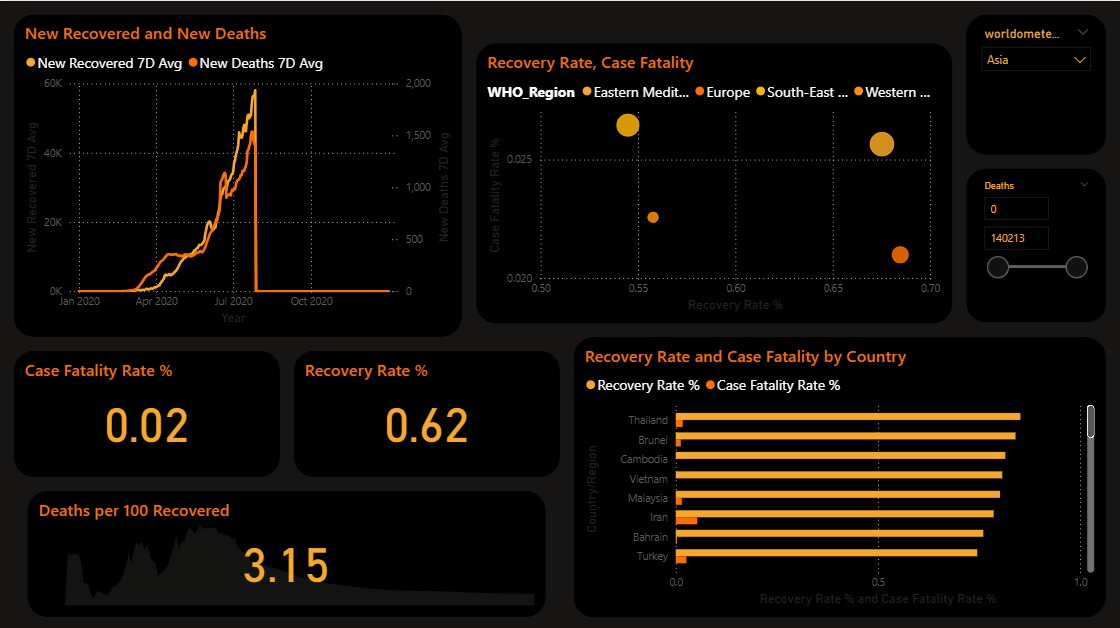

The dashboard page shown, as its layout file describes it:
{"tool":"powerbi","page":{"name":"RECOVERY vs SEVERITY ","canvas":[1280,720],"ordinal":2},"visuals":[{"type":"slicer","fields":{"Values":["Calendar.Date"]},"box":[768,176,304,96],"z":1000},{"type":"slicer","fields":{"Values":["country_facts.worldometer_data.Continent"]},"box":[1104,16,160,160],"z":3000},{"type":"kpi","title":"Deaths per 100 Recovered","fields":{"Indicator":["DAX.Deaths per 100 Recovered"],"TrendLine":["Calendar.Date"]},"box":[32,560,592,144],"z":4000},{"type":"kpi","title":"Recovery Rate %","fields":{"Indicator":["DAX.Recovery Rate %"],"TrendLine":["day_wise.Active"]},"box":[336,400,304,144],"z":5000},{"type":"kpi","title":"Case Fatality Rate %","fields":{"Indicator":["DAX.Case Fatality Rate %"],"TrendLine":["usa_countRy_wise.Deaths"]},"box":[16,400,304,144],"z":6000},{"type":"clusteredBarChart","title":"Recovery Rate  and Case Fatality by Country","fields":{"Category":["country_facts.Country/Region"],"Y":["DAX.Recovery Rate %","DAX.Case Fatality Rate %"]},"box":[656,384,608,320],"z":7000},{"type":"lineChart","title":"New Recovered and New Deaths","fields":{"Y":["DAX.New Recovered 7D Avg"],"Y2":["DAX.New Deaths 7D Avg"],"Category":["Calendar.Date.Variation.Date Hierarchy.Year","Calendar.Date.Variation.Date Hierarchy.Quarter","Calendar.Date.Variation.Date Hierarchy.Month","Calendar.Date.Variation.Date Hierarchy.Day"]},"box":[16,16,512,368],"z":8000},{"type":"scatterChart","title":"Recovery Rate, Case Fatality","fields":{"X":["DAX.Recovery Rate %"],"Size":["DAX.Total Confirmed"],"Series":["covid_19_clean_complete.WHO_Region"],"Y":["DAX.Case Fatality Rate %"]},"box":[544,48,544,320],"z":9000},{"type":"slicer","fields":{"Values":["covid_19_clean_complete.Deaths"]},"box":[1104,192,160,176],"z":10000}]}

Visuals, with their boxes in screenshot pixels (x1, y1, x2, y2), scaled from the page's 1280x720 canvas onto the 1120x628 screenshot:
slicer - Calendar.Date: 672 154 938 237
slicer - country_facts.worldometer_data.Continent: 966 14 1106 154
"Deaths per 100 Recovered" kpi: 28 488 546 614
"Recovery Rate %" kpi: 294 349 560 474
"Case Fatality Rate %" kpi: 14 349 280 474
"Recovery Rate  and Case Fatality by Country" clusteredBarChart: 574 335 1106 614
"New Recovered and New Deaths" lineChart: 14 14 462 335
"Recovery Rate, Case Fatality" scatterChart: 476 42 952 321
slicer - covid_19_clean_complete.Deaths: 966 167 1106 321
